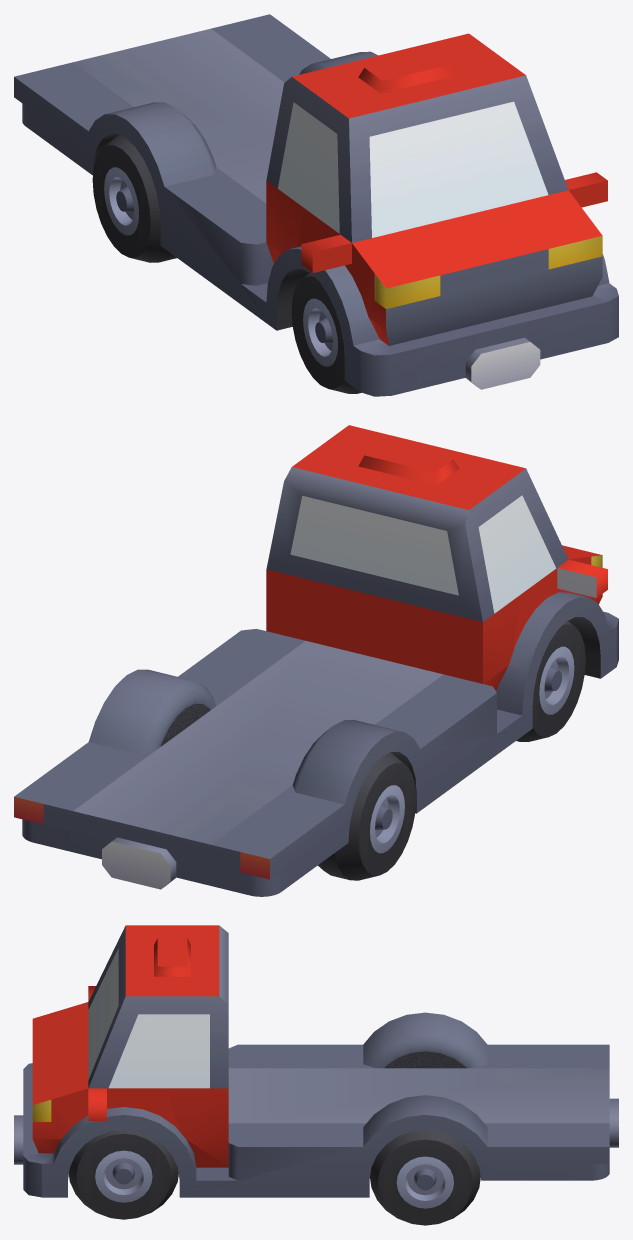
Rendered from delivery-flat1.glb.
3 renders of one model, top to bottom at view 1: azimuth 30°, elevation 25°; view 2: azimuth 150°, elevation 25°; view 3: azimuth 270°, elevation 25°, orthographic. The views are drawn at different scales.
Visible parts, largest first — view 1: body, body.001, wheel-back-right, wheel-front-right; view 2: body, body.001, wheel-back-right, wheel-front-right; view 3: body, body.001, wheel-back-left, wheel-front-left.
Part boxes in pixels (x1=…): body: x1=14, y1=14, x2=618, y2=396; body.001: x1=266, y1=33, x2=607, y2=345; wheel-back-right: x1=92, y1=134, x2=176, y2=262; wheel-front-right: x1=291, y1=272, x2=361, y2=393; body: x1=14, y1=467, x2=618, y2=896; body.001: x1=266, y1=425, x2=607, y2=690; wheel-back-right: x1=318, y1=752, x2=416, y2=880; wheel-front-right: x1=516, y1=621, x2=585, y2=741; body: x1=14, y1=925, x2=618, y2=1197; body.001: x1=32, y1=925, x2=228, y2=1167; wheel-back-left: x1=370, y1=1130, x2=480, y2=1225; wheel-front-left: x1=69, y1=1130, x2=178, y2=1219.
Size of the model in its own units: 1.5 by 1.35 by 3.25.
2 materials, 1 textured.
